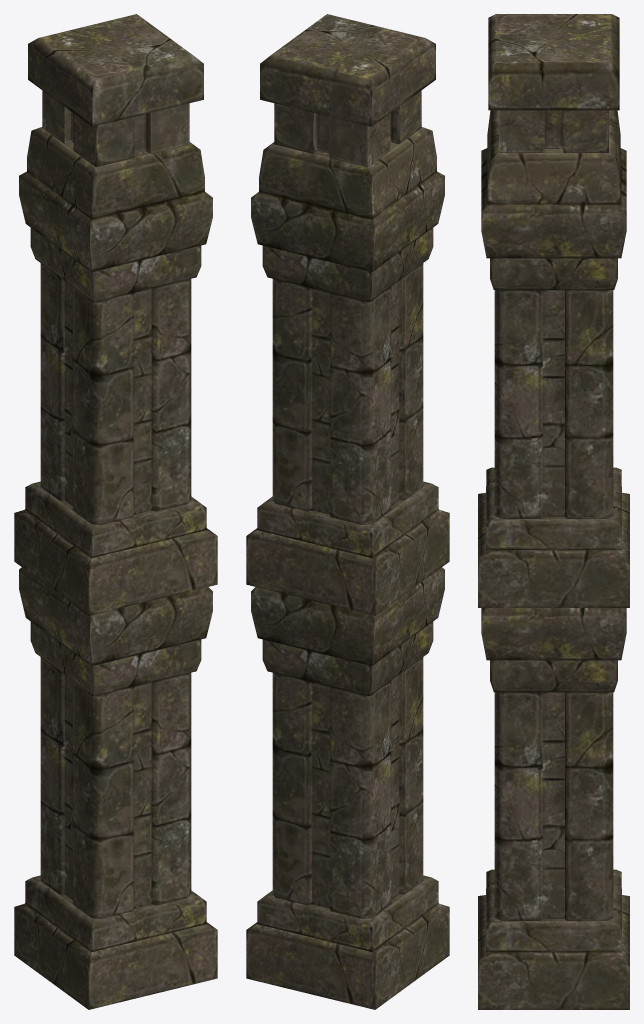
Rendered from Column_04-transformed.glb.
3 renders of one model, left to right at view 1: azimuth 30°, elevation 25°; view 2: azimuth 150°, elevation 25°; view 3: azimuth 270°, elevation 25°, orthographic. The views are drawn at different scales.
Parts seen in each view (by area): view 1: default; view 2: default; view 3: default.
Boxes of the visible parts, box(x1,y1,x2,y2) form: default: box(14, 14, 217, 1009); default: box(246, 14, 449, 1009); default: box(478, 14, 629, 1009).
Size of the model in its own units: 1.37 by 9.34 by 1.37.
Materials: 1 (1 with a texture image).
